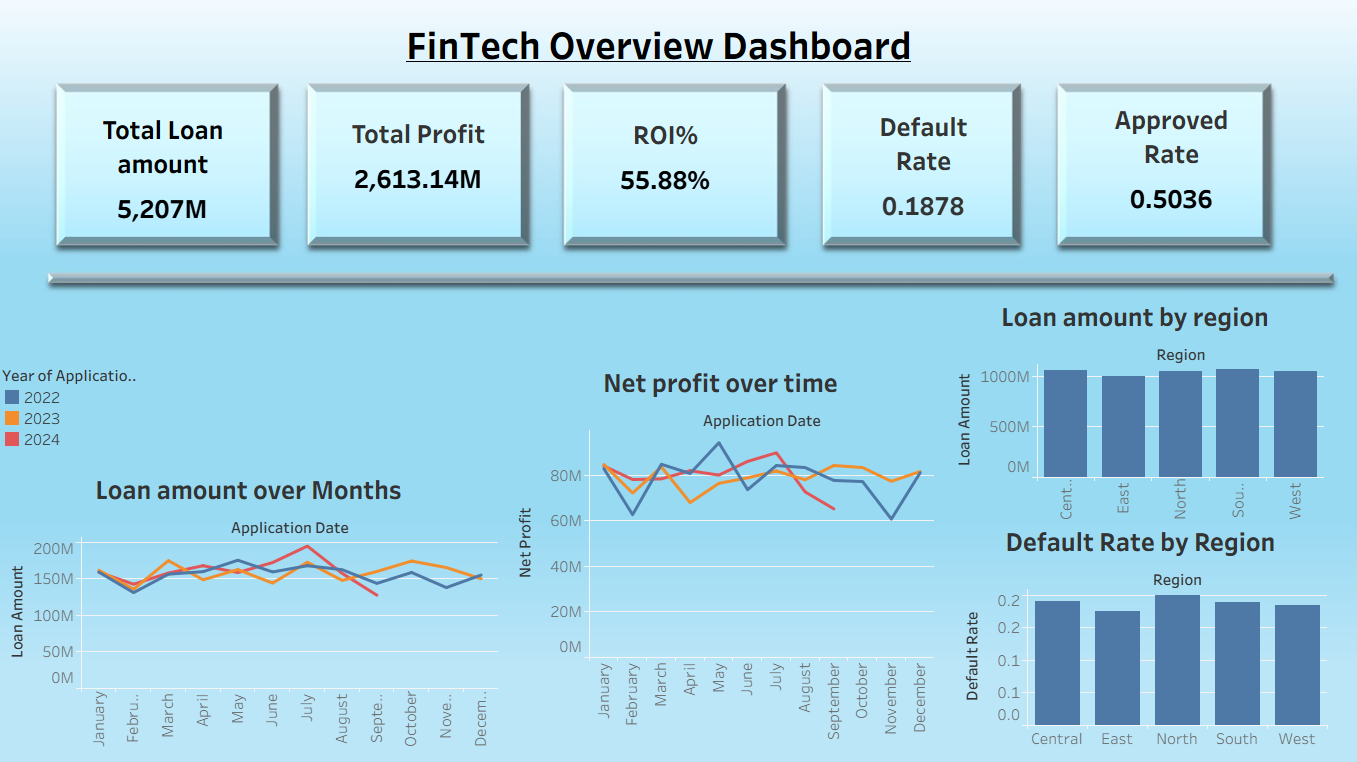

Layout of this report page (visuals, bound fields, positions):
{"tool":"tableau","page":{"name":"Dashboard 1","canvas":[1619,801],"ordinal":1},"visuals":[{"type":"image","param":"Image/Presentation1.jpg","box":[21,10,1371,773]},{"type":"title","box":[56,30,1258,56]},{"type":"worksheet","title":"Approved Rate","mark":"Automatic","box":[1113,112,169,131]},{"type":"worksheet","title":"DEFAULT RATE","mark":"Automatic","box":[885,119,129,117]},{"type":"worksheet","title":"Total Loan amount","mark":"Automatic","box":[103,122,172,119]},{"type":"worksheet","title":"Total Profit","mark":"Automatic","box":[360,126,169,122]},{"type":"worksheet","title":"ROI%","mark":"Automatic","box":[619,127,145,103]},{"type":"worksheet","title":"Loan amount by region","mark":"Automatic","rows":["Loan_Amount"],"cols":["Region"],"box":[972,309,378,227]},{"type":"worksheet","title":"Net profit over time","mark":"Automatic","rows":["Calculation_2597732624631259137"],"cols":["Application_Date"],"box":[533,375,427,396]},{"type":"legend","title":"Monthly Loan Disbursal Trend","param":"[federated.0oi8g6x1n5pqgp17cc9di1d37bk4].[yr:Application_Date:ok]","box":[27.8,379,139.1,85]},{"type":"worksheet","title":"Monthly Loan Disbursal Trend","mark":"Line","rows":["Loan_Amount"],"cols":["Application_Date"],"box":[25,482,499,280]},{"type":"worksheet","title":"Default Rate by Region","mark":"Automatic","rows":["Calculation_2597732624636448773"],"cols":["Region"],"box":[980,534,374,230]}]}

Visuals, with their boxes on the page's 1619x801 design canvas (x1, y1, x2, y2). These are canvas units, not pixel positions in the 1357x762 screenshot, which may show the page scaled, cropped or inside an application window:
image: l=21, t=10, r=1392, b=783
title: l=56, t=30, r=1314, b=86
"Approved Rate" worksheet: l=1113, t=112, r=1282, b=243
"DEFAULT RATE" worksheet: l=885, t=119, r=1014, b=236
"Total Loan amount" worksheet: l=103, t=122, r=275, b=241
"Total Profit" worksheet: l=360, t=126, r=529, b=248
"ROI%" worksheet: l=619, t=127, r=764, b=230
"Loan amount by region" worksheet: l=972, t=309, r=1350, b=536
"Net profit over time" worksheet: l=533, t=375, r=960, b=771
"Monthly Loan Disbursal Trend" legend: l=28, t=379, r=167, b=464
"Monthly Loan Disbursal Trend" worksheet (Line marks): l=25, t=482, r=524, b=762
"Default Rate by Region" worksheet: l=980, t=534, r=1354, b=764
